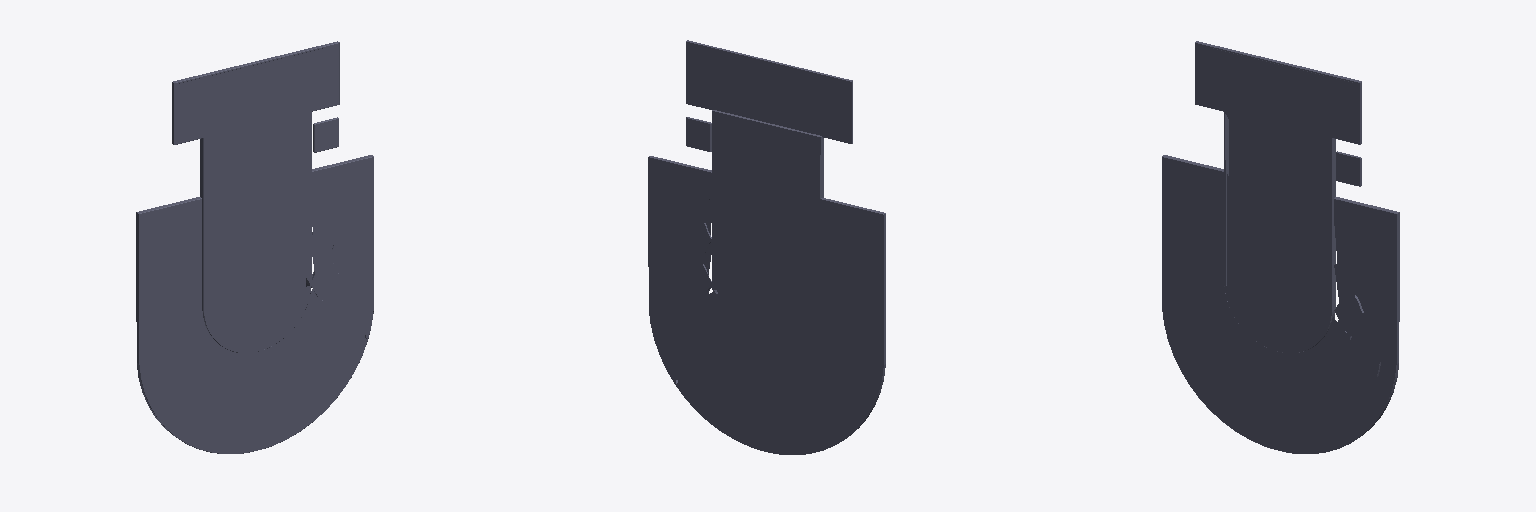
File: Metal2.obj
The picture shows the model from 3 angles: view 1: azimuth 30°, elevation 25°; view 2: azimuth 150°, elevation 25°; view 3: azimuth 330°, elevation 25°; orthographic projection.
Visible parts, largest first — view 1: reflect_metal.001; view 2: reflect_metal.001; view 3: reflect_metal.001.
Part boxes in pixels (left/top/right/bottom): reflect_metal.001: left=136, top=41, right=373, bottom=453; reflect_metal.001: left=648, top=40, right=885, bottom=454; reflect_metal.001: left=1162, top=41, right=1399, bottom=453.
Bounding box in the file's own units: 0.2447 × 0.3859 × 0.0064.